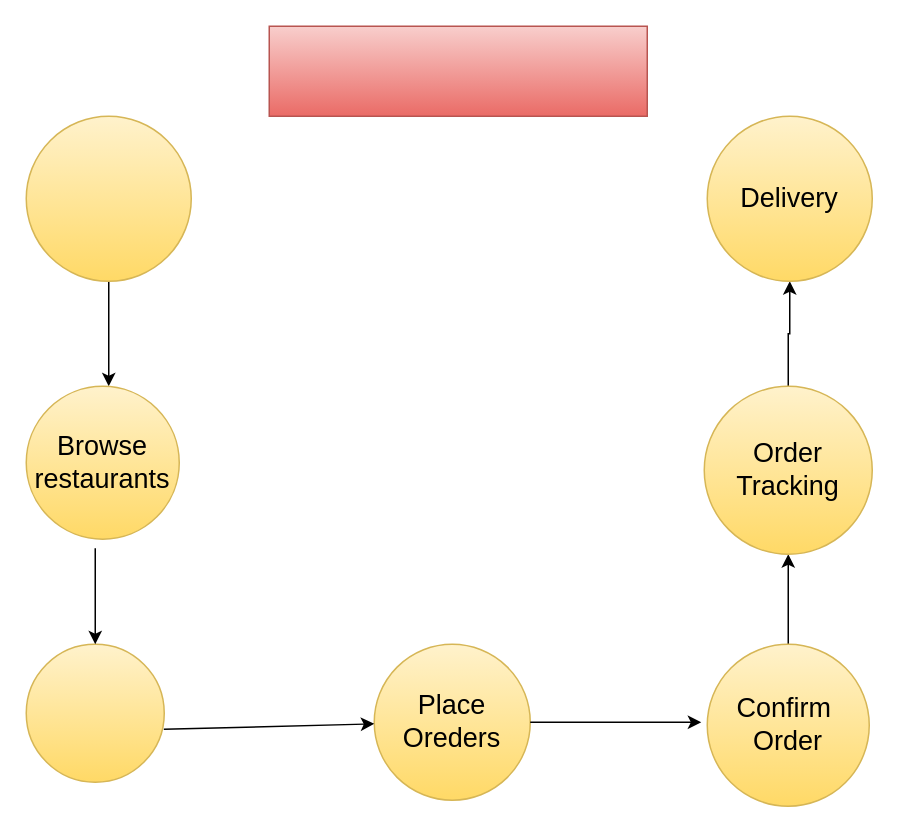
Some shapes in this 899 by 833 pixel diagram are drawn without their labels. Here are the shapes that lost their labels. From the top down, the box of each, then its label:
(268, 25, 647, 116): Food Delivery
(25, 115, 191, 281): Download and sign up
(25, 643, 164, 782): View Menu
